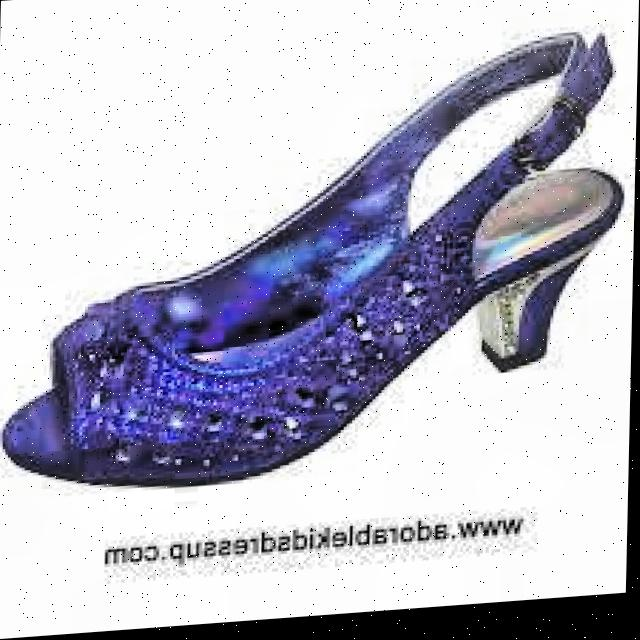shoes: (0, 22, 626, 500)
